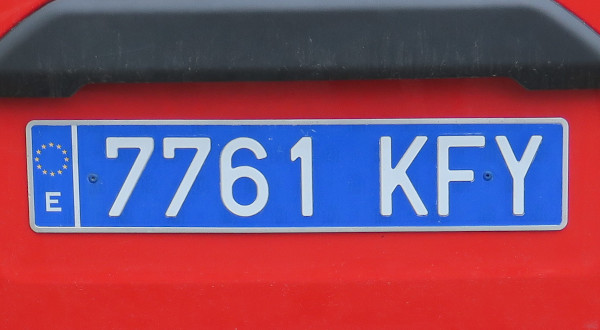license_plate: (25, 119, 570, 230)
